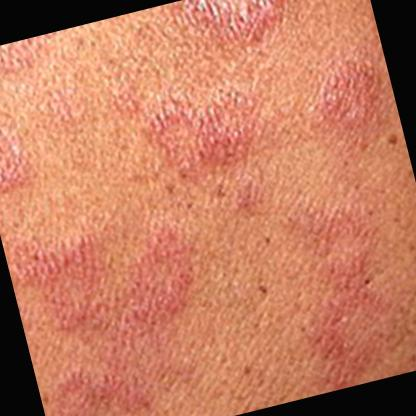Leprosy: (4, 199, 241, 416), (238, 153, 416, 400), (127, 74, 281, 198), (300, 44, 402, 147), (159, 0, 321, 63), (0, 105, 46, 196), (0, 32, 61, 86)
